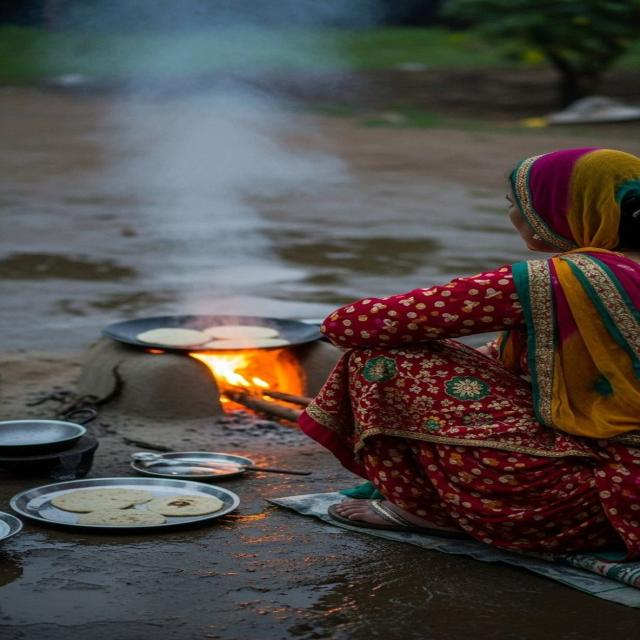fire: (188, 348, 308, 415)
